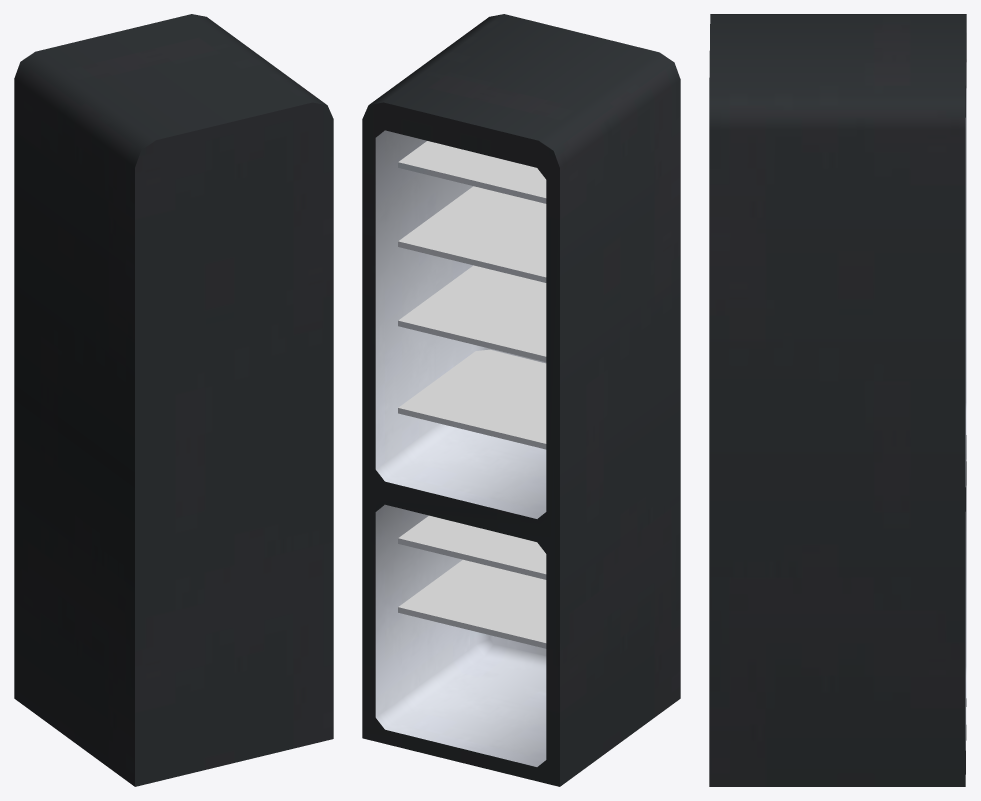
Rendered from Refrigerator_03.glb.
3 renders of one model, left to right at view 1: azimuth 30°, elevation 25°; view 2: azimuth 150°, elevation 25°; view 3: azimuth 270°, elevation 25°, orthographic. The views are drawn at different scales.
Visible parts, largest first — view 1: Refrigerator_03; view 2: Refrigerator_03; view 3: Refrigerator_03.
Boxes of the visible parts, x1=… form: Refrigerator_03: x1=14, y1=14, x2=333, y2=786; Refrigerator_03: x1=362, y1=14, x2=680, y2=786; Refrigerator_03: x1=709, y1=14, x2=966, y2=786.
Size of the model in its own units: 0.7293 by 2.26 by 0.7733.
Materials: 3 (2 with a texture image).
